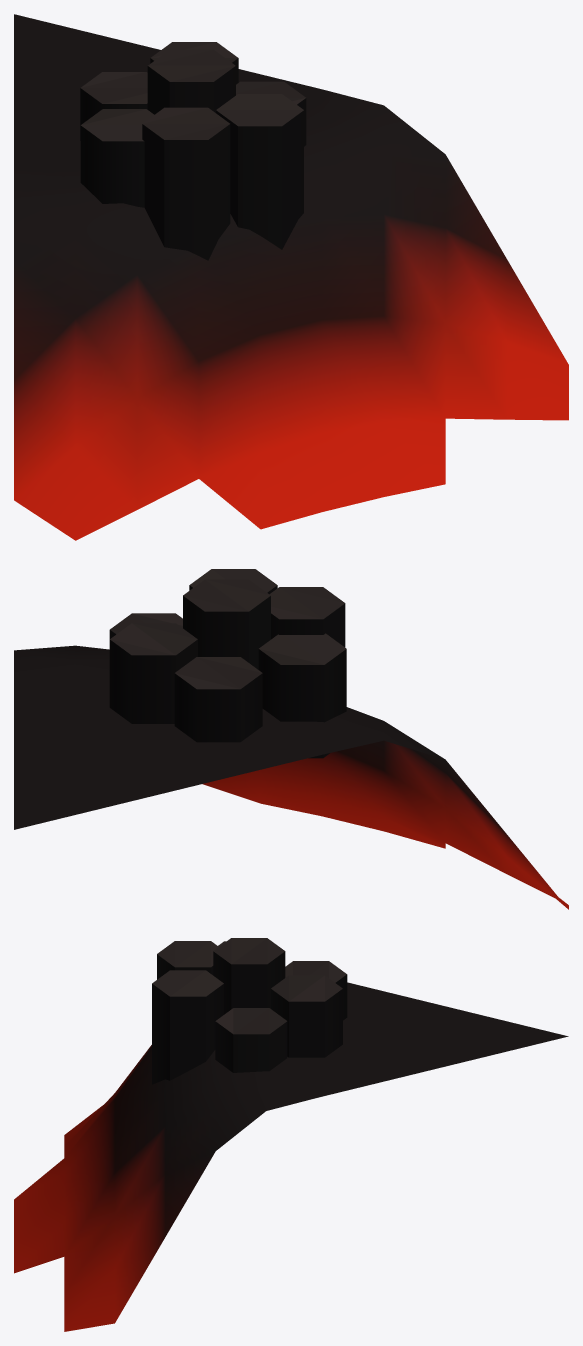
File: MODULE_LAVA_LINE.fbx
3 renders of one model, top to bottom at view 1: azimuth 30°, elevation 25°; view 2: azimuth 150°, elevation 25°; view 3: azimuth 270°, elevation 25°, orthographic. The views are drawn at different scales.
Parts seen in each view (by area): view 1: MODULE_LAVA_LINE__export, MODULE_LAVA_LINE_DECOR__export; view 2: MODULE_LAVA_LINE__export, MODULE_LAVA_LINE_DECOR__export; view 3: MODULE_LAVA_LINE__export, MODULE_LAVA_LINE_DECOR__export.
Boxes of the visible parts, x1,y1,x2,y2 form: MODULE_LAVA_LINE__export: (14,14,568,540); MODULE_LAVA_LINE_DECOR__export: (80,42,306,260); MODULE_LAVA_LINE__export: (14,645,568,909); MODULE_LAVA_LINE_DECOR__export: (109,569,346,758); MODULE_LAVA_LINE__export: (14,982,568,1331); MODULE_LAVA_LINE_DECOR__export: (152,938,347,1084).
Size of the model in its own units: 56.25 by 32.94 by 59.54.
